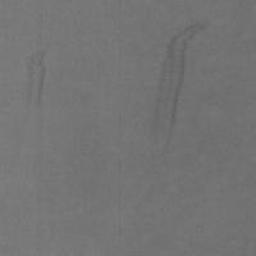Water spot: (147, 18, 210, 164), (17, 46, 47, 151)
